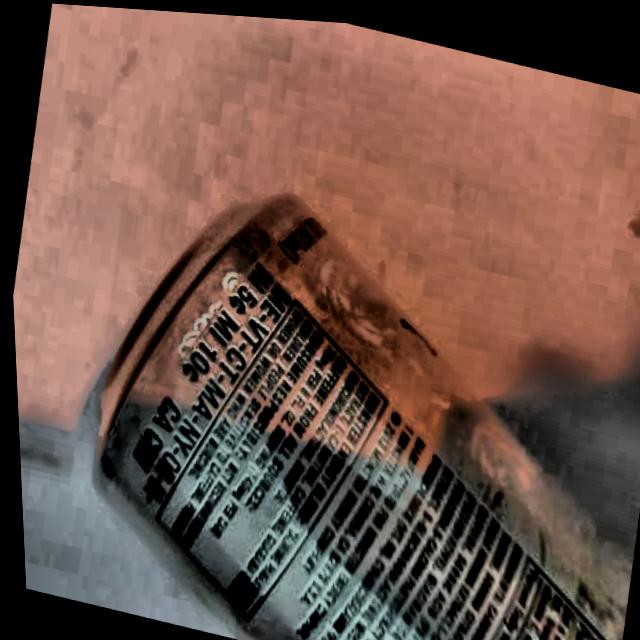Cans: (25, 130, 640, 640)
